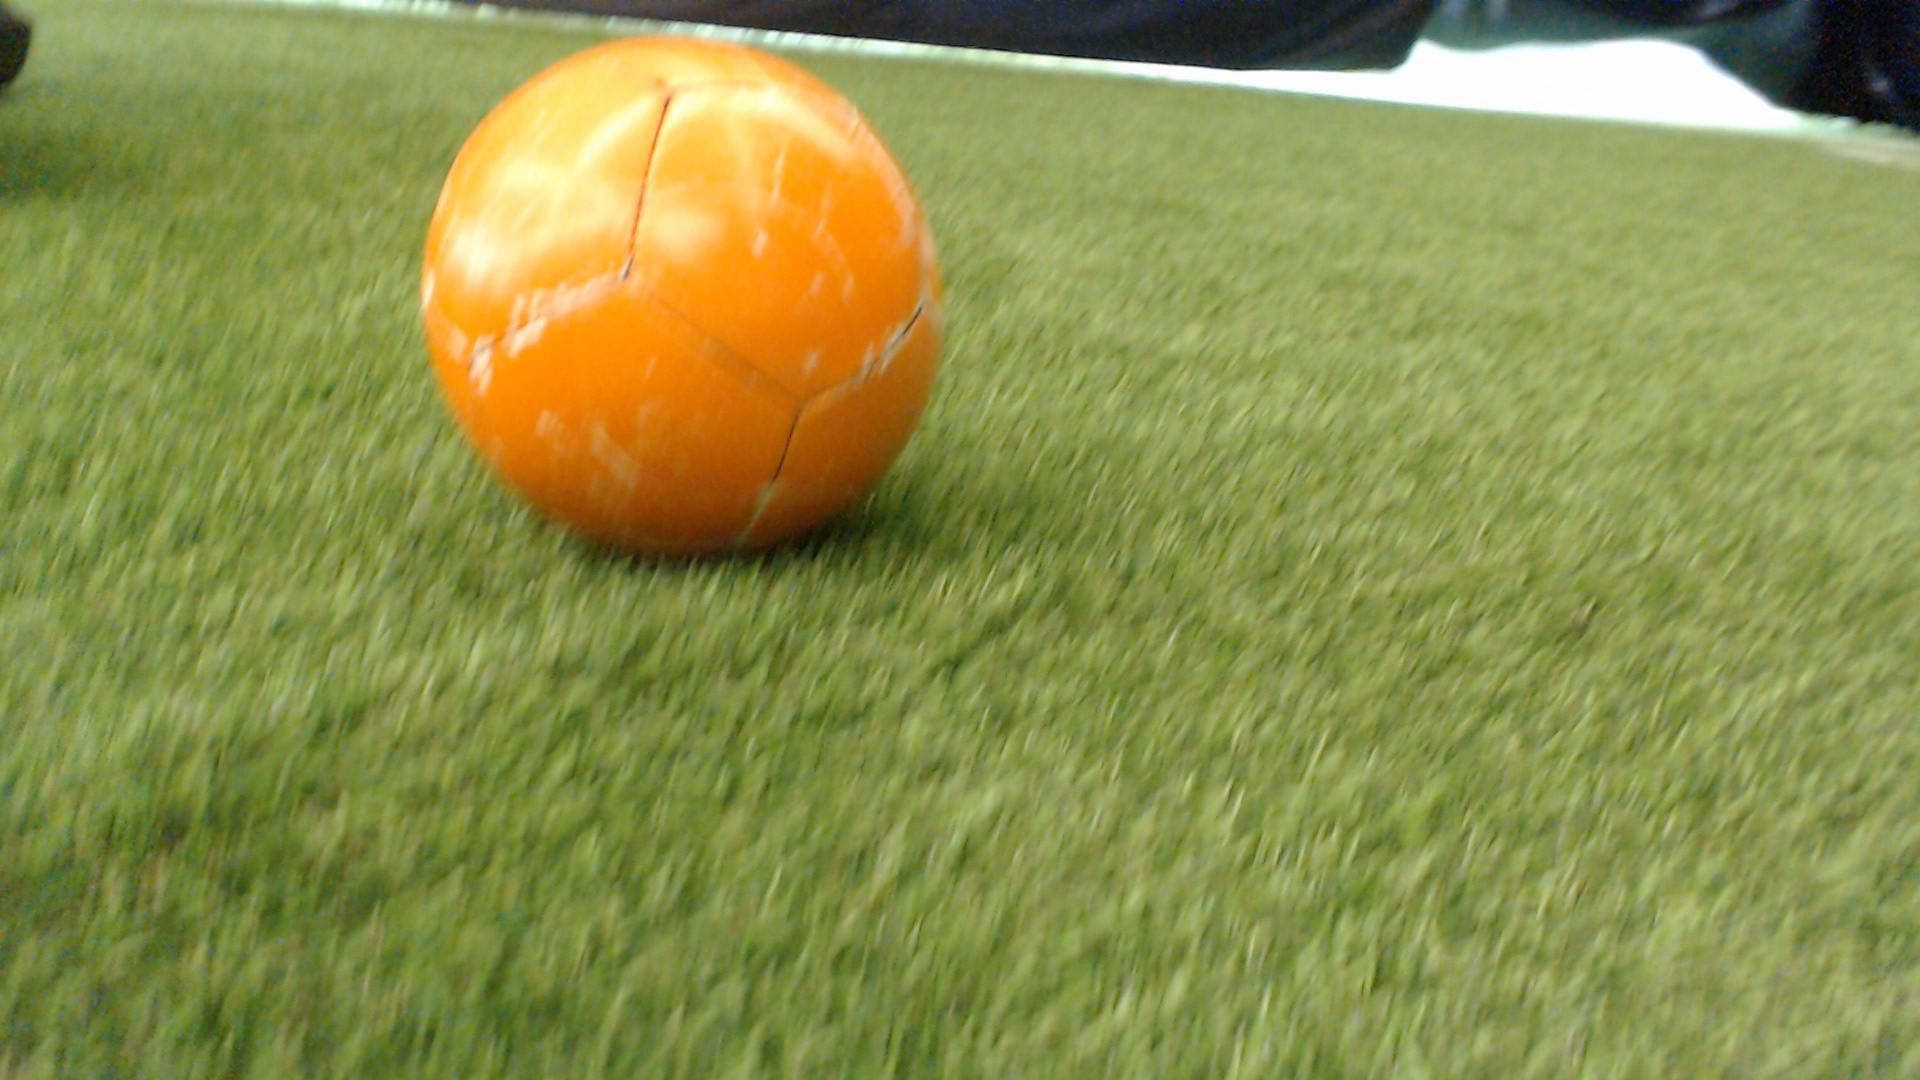bola: (398, 12, 975, 591)
